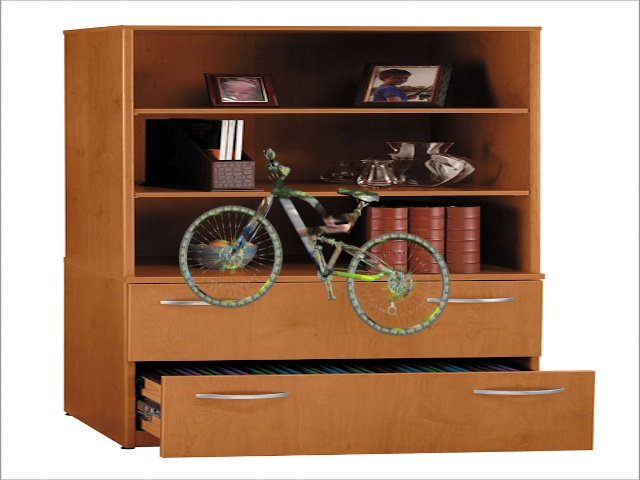bike: (176, 145, 460, 344)
